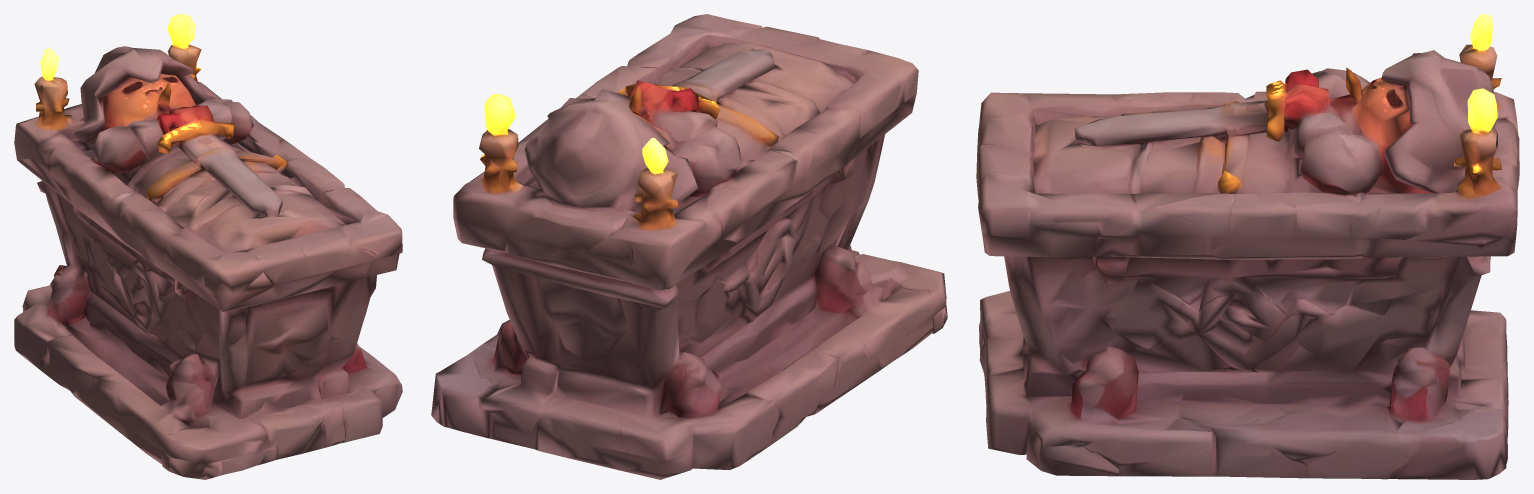
The model's file is cr_tomb-0Eb-aiTF.glb.
The picture shows the model from 3 angles, left to right: view 1: azimuth 30°, elevation 25°; view 2: azimuth 150°, elevation 25°; view 3: azimuth 270°, elevation 25°; orthographic projection. The views are drawn at different scales.
Parts seen in each view (by area): view 1: tripo_node_bd569c67-9443-4d7e-bd21-558f62a2da2d; view 2: tripo_node_bd569c67-9443-4d7e-bd21-558f62a2da2d; view 3: tripo_node_bd569c67-9443-4d7e-bd21-558f62a2da2d.
Boxes of the visible parts, x1,y1,x2,y2 form: tripo_node_bd569c67-9443-4d7e-bd21-558f62a2da2d: (14, 14, 402, 479); tripo_node_bd569c67-9443-4d7e-bd21-558f62a2da2d: (431, 14, 947, 479); tripo_node_bd569c67-9443-4d7e-bd21-558f62a2da2d: (976, 14, 1519, 479).
Size of the model in its own units: 2.16 by 2.31 by 3.2.
1 material, 1 textured.
